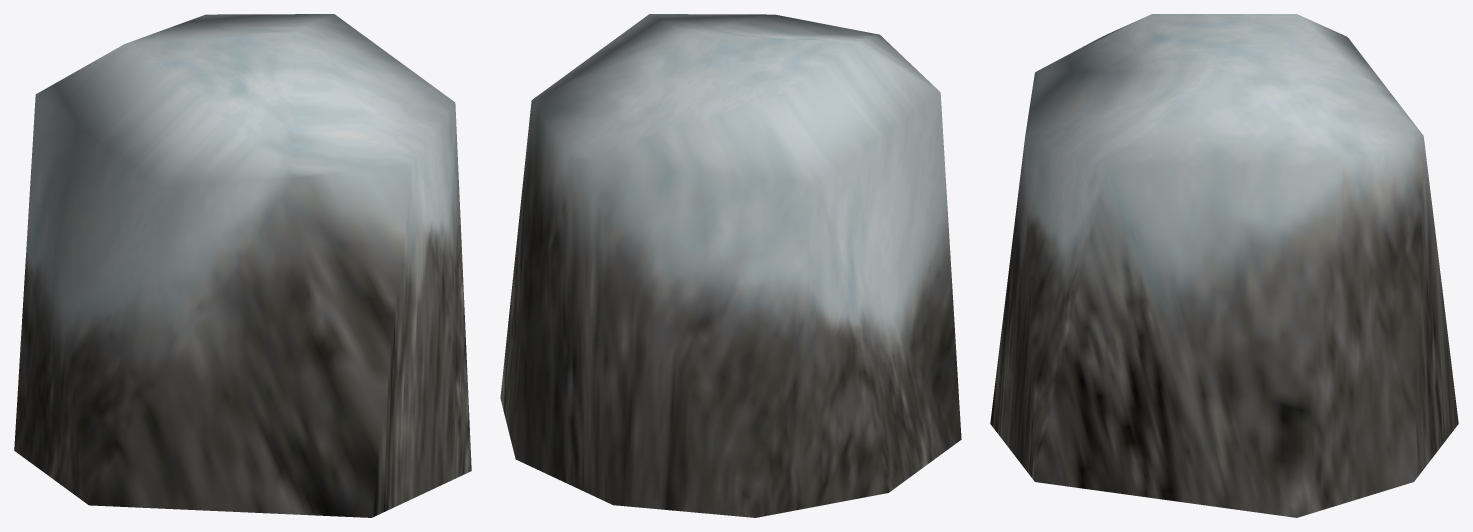
The picture shows the model from 3 angles, left to right: view 1: azimuth 30°, elevation 25°; view 2: azimuth 150°, elevation 25°; view 3: azimuth 270°, elevation 25°; orthographic projection. The views are drawn at different scales.
Parts seen in each view (by area): view 1: a74; view 2: a74; view 3: a74.
Boxes of the visible parts, x1=… form: a74: x1=14, y1=14, x2=471, y2=517; a74: x1=500, y1=14, x2=961, y2=517; a74: x1=990, y1=14, x2=1458, y2=517.
Size of the model in its own units: 157 by 145 by 165.
